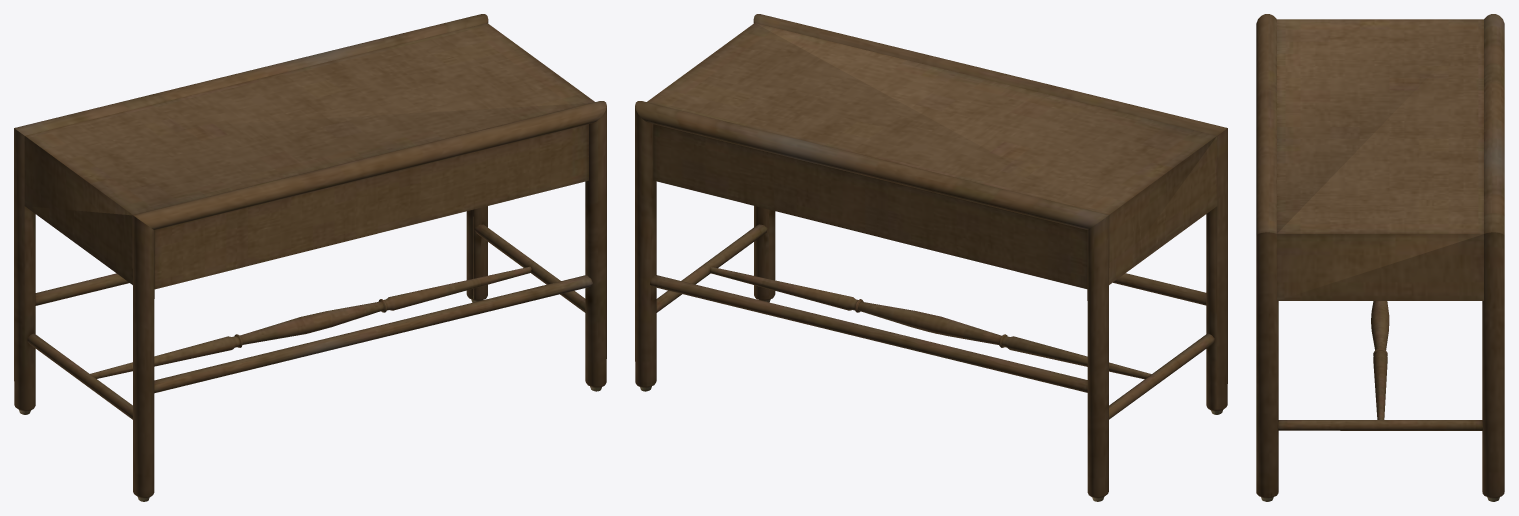
The model's file is table_small.glb.
3 views of the same model, side by side, from view 1: azimuth 30°, elevation 25°; view 2: azimuth 150°, elevation 25°; view 3: azimuth 270°, elevation 25° (orthographic). The views are drawn at different scales.
Visible parts, largest first — view 1: small_wooden_table_01; view 2: small_wooden_table_01; view 3: small_wooden_table_01.
Part boxes in pixels (box(x1,y1,x2,y2)): small_wooden_table_01: box(14, 14, 606, 501); small_wooden_table_01: box(635, 14, 1227, 501); small_wooden_table_01: box(1256, 14, 1504, 501).
Size of the model in its own units: 0.9162 by 0.5331 by 0.44.
1 material, 1 textured.
